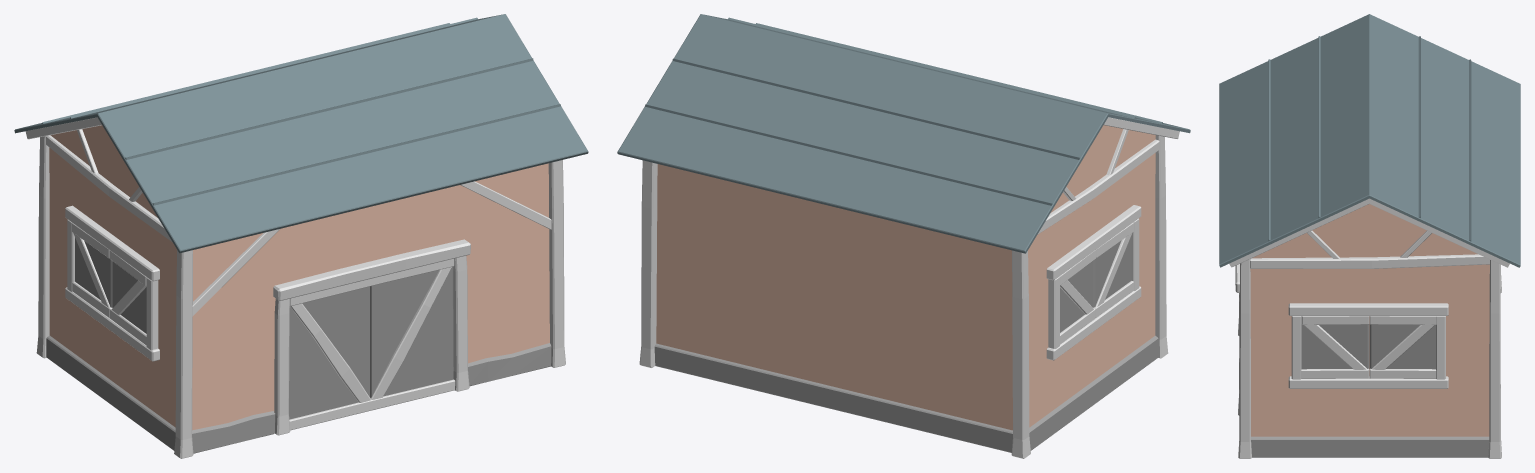
File: fp_storage_l2.glb
The picture shows the model from 3 angles, left to right: view 1: azimuth 30°, elevation 25°; view 2: azimuth 150°, elevation 25°; view 3: azimuth 270°, elevation 25°; orthographic projection. The views are drawn at different scales.
Bounding box in the file's own units: 1.85 × 1.28 × 1.3.
